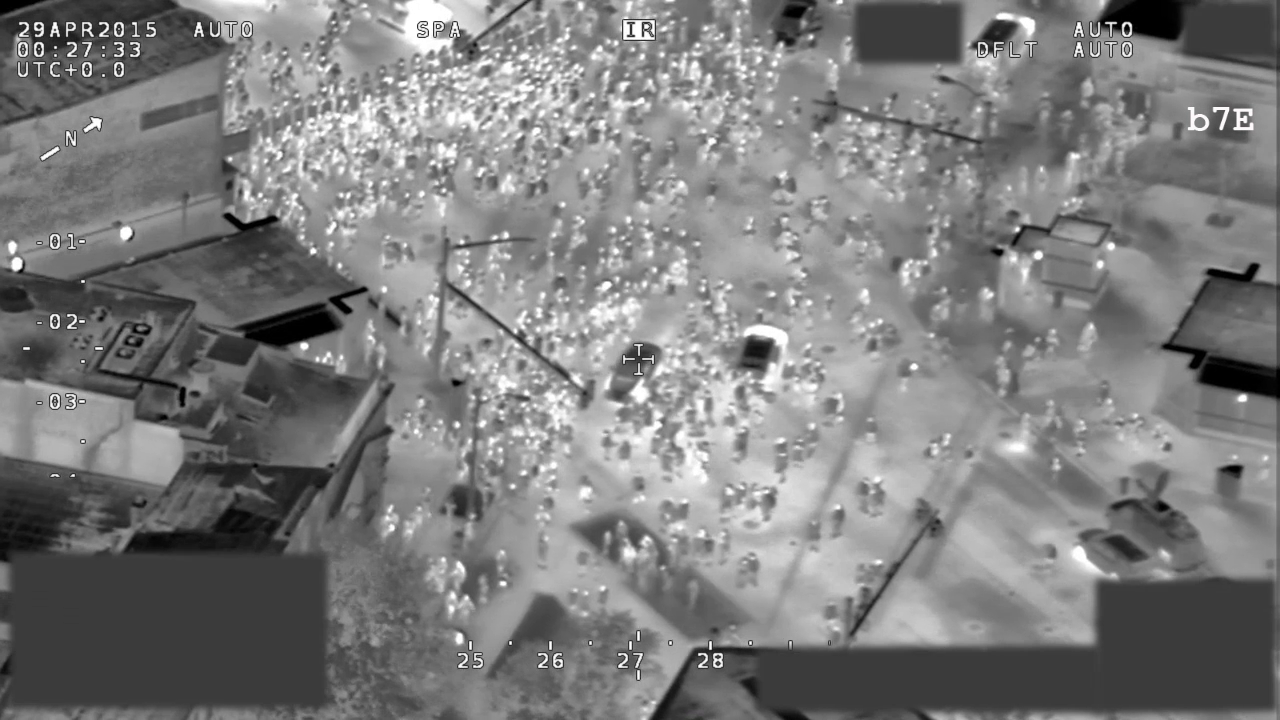vehicle: (1102, 463, 1216, 578), (721, 319, 795, 403), (1068, 517, 1158, 583), (598, 334, 670, 412), (964, 9, 1042, 77), (763, 1, 826, 56)
